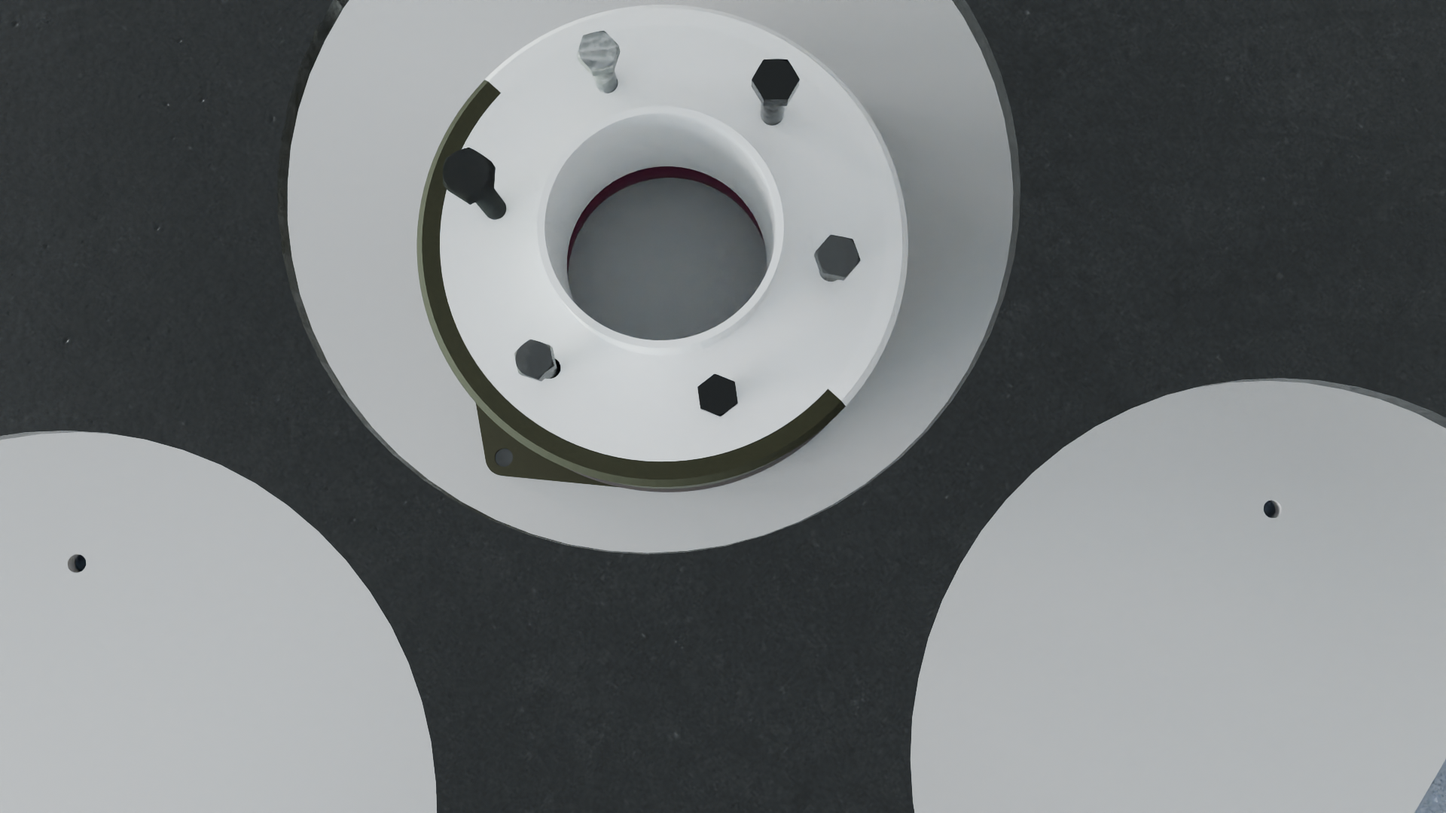bolt: (443, 148, 491, 199), (752, 59, 800, 100), (816, 235, 861, 278), (697, 373, 738, 417), (577, 30, 619, 70), (514, 339, 554, 379)
